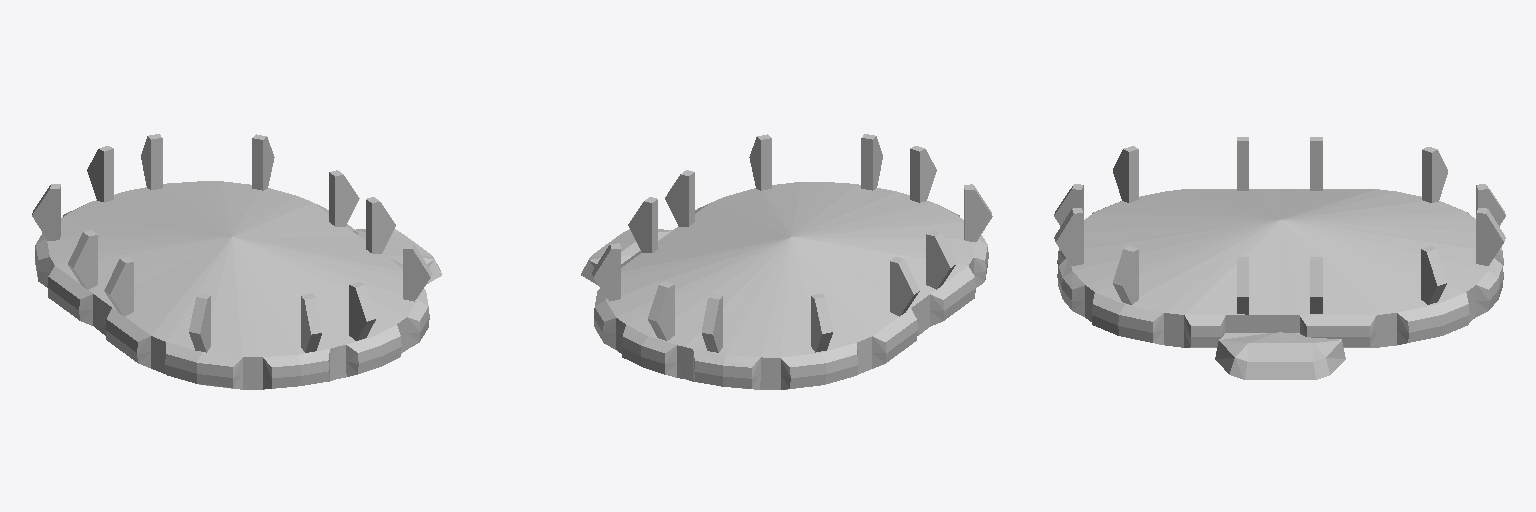
Rendered from bld-08-04-Constr-levels_obj.obj.
3 renders of one model, left to right at view 1: azimuth 30°, elevation 25°; view 2: azimuth 150°, elevation 25°; view 3: azimuth 270°, elevation 25°, orthographic.
Visible parts, largest first — view 1: bld-08-04; view 2: bld-08-04; view 3: bld-08-04.
Boxes of the visible parts, x1,y1,x2,y2 form: bld-08-04: [32, 134, 441, 389]; bld-08-04: [581, 134, 992, 389]; bld-08-04: [1054, 137, 1505, 379].
Bounding box in the file's own units: 10.63 × 2.75 × 12.43.